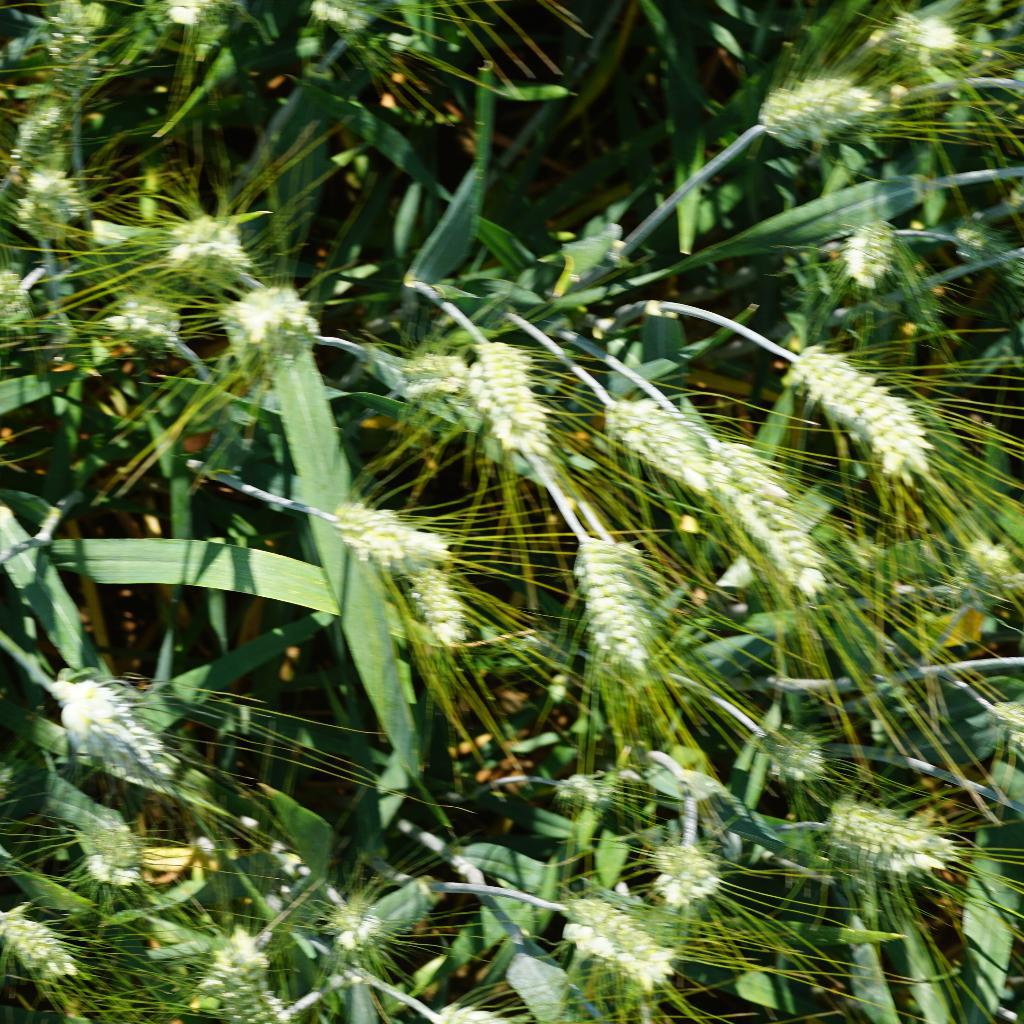0-0: (688, 425, 848, 597), (774, 339, 937, 481), (601, 380, 731, 497), (47, 675, 183, 784), (737, 66, 885, 161), (205, 264, 333, 367), (571, 527, 662, 668), (460, 331, 559, 458), (821, 795, 964, 882), (555, 893, 679, 985), (320, 497, 444, 574), (205, 935, 305, 1024), (165, 202, 271, 280), (393, 331, 482, 415), (403, 560, 484, 650), (12, 153, 88, 245), (0, 909, 89, 986), (89, 286, 189, 350), (85, 817, 167, 894), (311, 888, 392, 960), (881, 4, 974, 66), (834, 206, 903, 288), (653, 834, 728, 908), (36, 0, 117, 64), (762, 720, 841, 783), (968, 545, 1024, 628), (0, 264, 52, 338), (554, 770, 618, 818)
